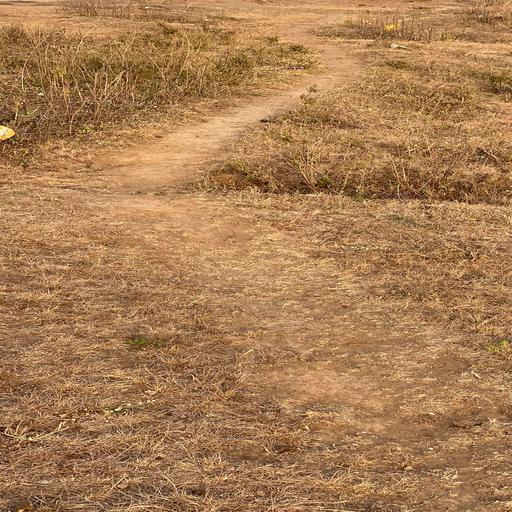vehicle_track: (79, 41, 512, 406)
